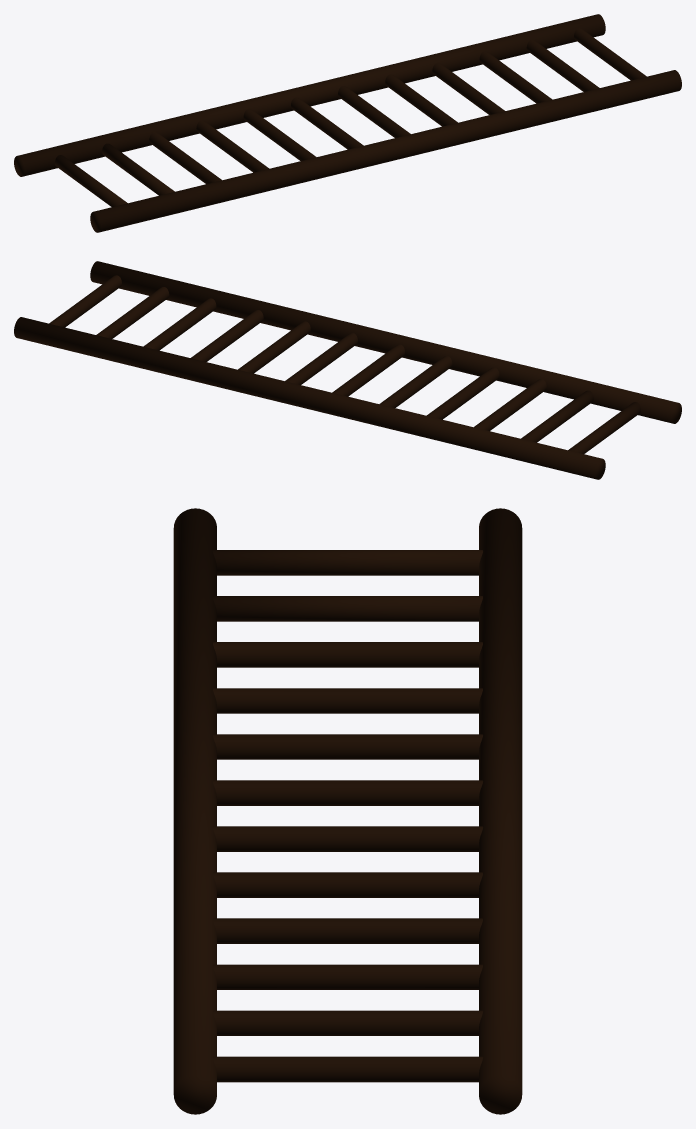
File: wooden ladder.fbx
3 renders of one model, top to bottom at view 1: azimuth 30°, elevation 25°; view 2: azimuth 150°, elevation 25°; view 3: azimuth 270°, elevation 25°, orthographic. The views are drawn at different scales.
Visible parts, largest first — view 1: Wooden_Ladder; view 2: Wooden_Ladder; view 3: Wooden_Ladder.
Boxes of the visible parts, x1,y1,x2,y2 form: Wooden_Ladder: [14, 14, 681, 232]; Wooden_Ladder: [14, 261, 681, 479]; Wooden_Ladder: [173, 508, 522, 1114].
Bounding box in the file's own units: 580 × 18.74 × 151.
